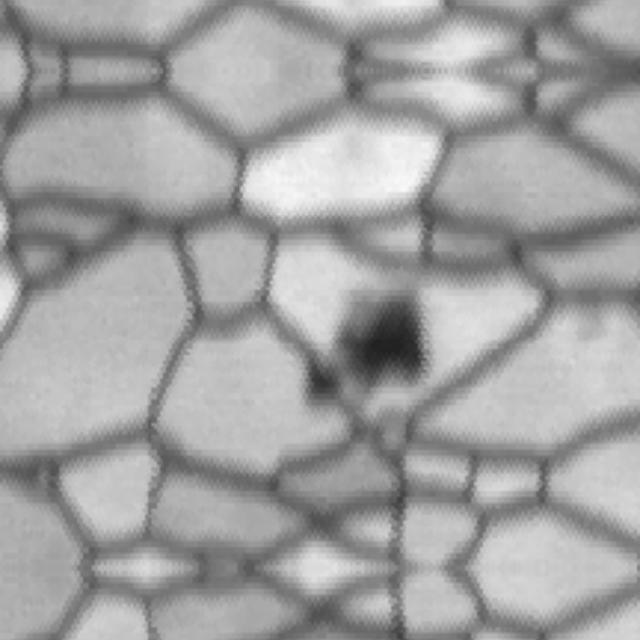good_void: (307, 284, 432, 405)
